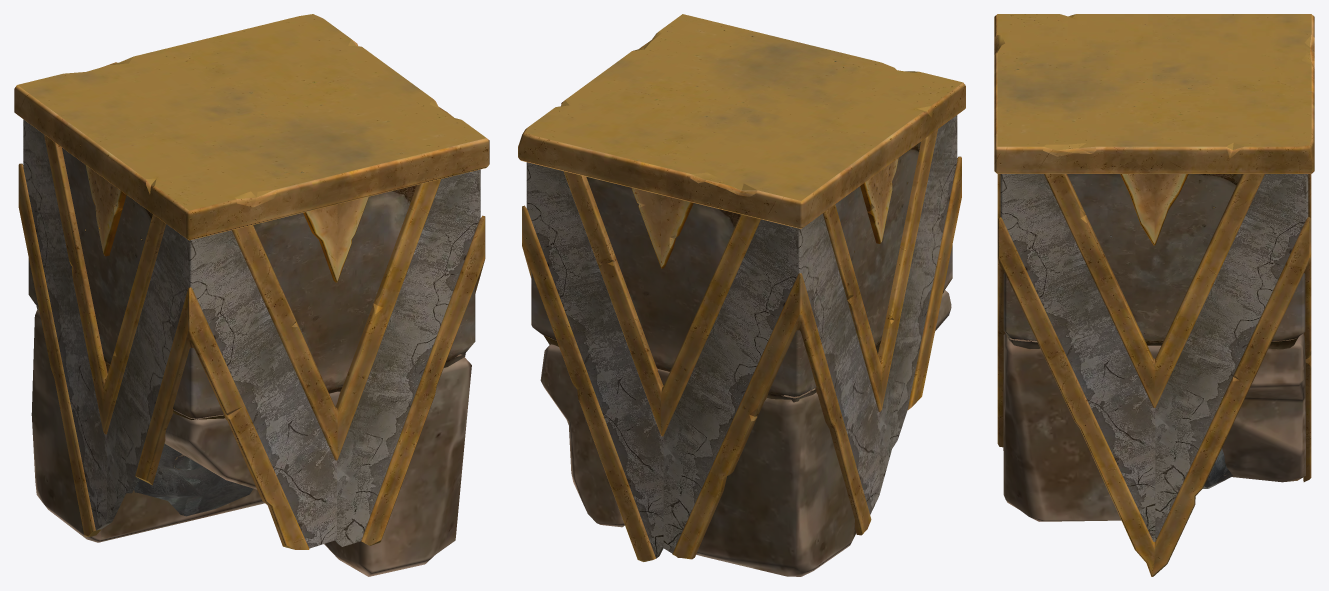
The picture shows the model from 3 angles, left to right: view 1: azimuth 30°, elevation 25°; view 2: azimuth 150°, elevation 25°; view 3: azimuth 270°, elevation 25°; orthographic projection. The views are drawn at different scales.
Parts seen in each view (by area): view 1: SM_Vault_8m_Column_Dmg_01_V3_LOD0; view 2: SM_Vault_8m_Column_Dmg_01_V3_LOD0; view 3: SM_Vault_8m_Column_Dmg_01_V3_LOD0.
Part boxes in pixels (bbox=[...]): SM_Vault_8m_Column_Dmg_01_V3_LOD0: bbox=[14, 14, 489, 576]; SM_Vault_8m_Column_Dmg_01_V3_LOD0: bbox=[518, 14, 965, 576]; SM_Vault_8m_Column_Dmg_01_V3_LOD0: bbox=[994, 14, 1314, 576].
Bounding box in the file's own units: 2.12 × 3.15 × 2.12.
Materials: 7 (7 with a texture image).
